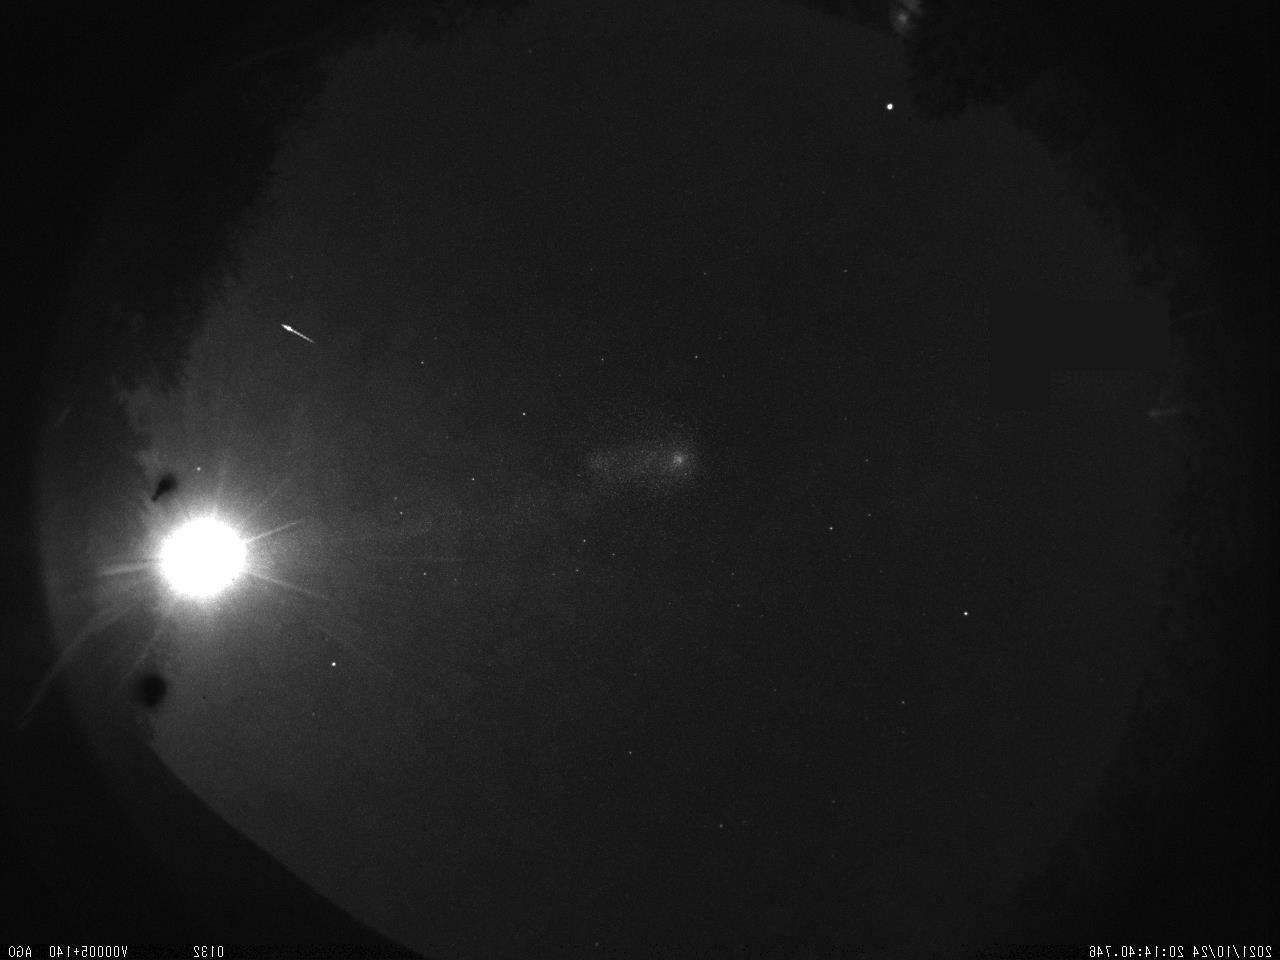meteor: (268, 310, 352, 358)
